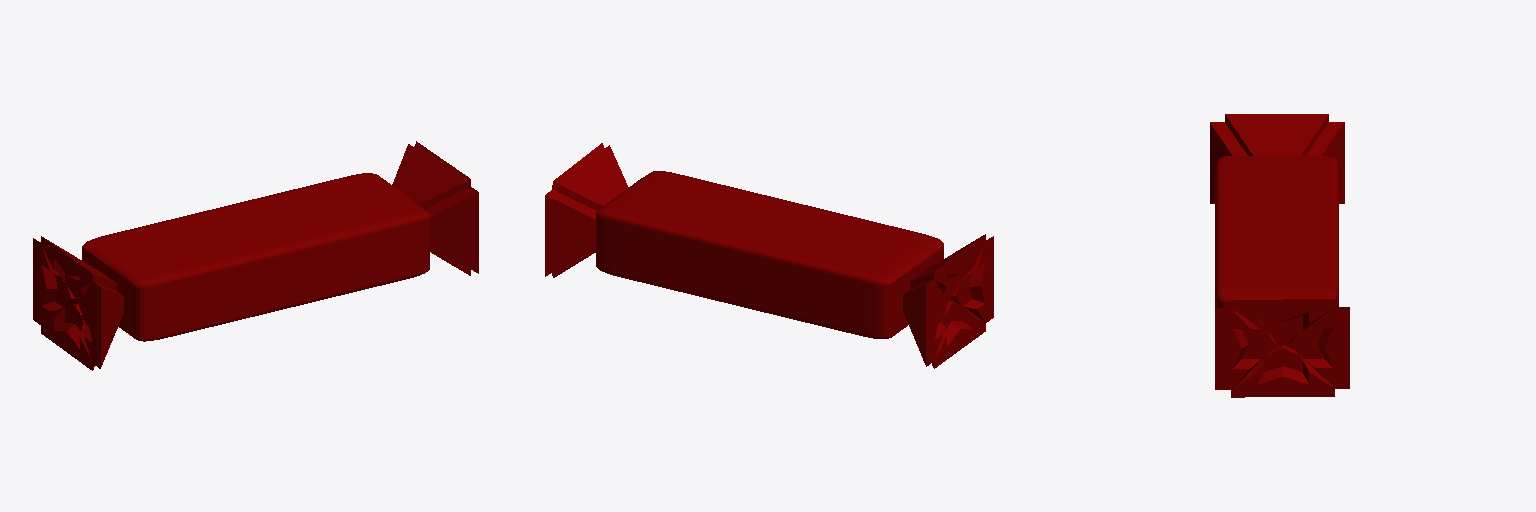
The model's file is CandyBarRedobj.obj.
The picture shows the model from 3 angles: view 1: azimuth 30°, elevation 25°; view 2: azimuth 150°, elevation 25°; view 3: azimuth 270°, elevation 25°; orthographic projection.
Parts seen in each view (by area): view 1: Box001, Object001, Object002; view 2: Box001, Object001, Object002; view 3: Box001, Object002, Object001.
Part boxes in pixels (left/top/right/bottom): Box001: left=82, top=173, right=429, bottom=341; Object001: left=33, top=236, right=123, bottom=370; Object002: left=392, top=141, right=478, bottom=275; Box001: left=596, top=171, right=943, bottom=338; Object001: left=903, top=234, right=993, bottom=368; Object002: left=545, top=143, right=628, bottom=277; Box001: left=1215, top=156, right=1338, bottom=307; Object002: left=1215, top=299, right=1349, bottom=397; Object001: left=1210, top=114, right=1344, bottom=203.
Size of the model in its own units: 95.9 by 23.46 by 30.68.